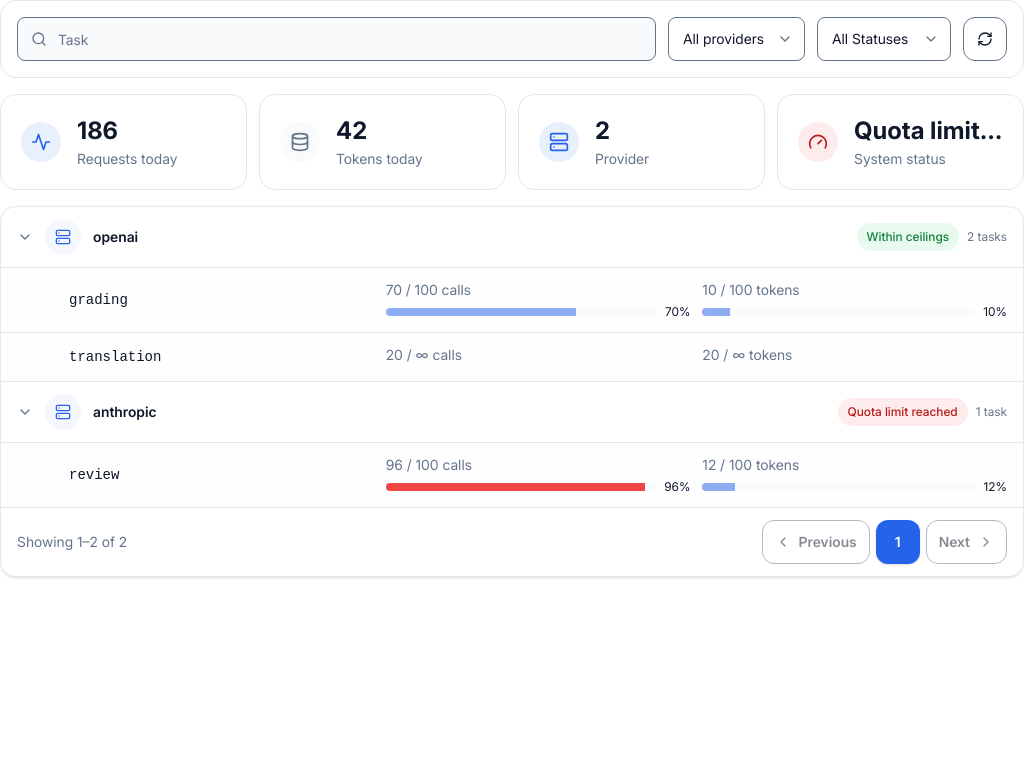
Test: AdminAIUsage › has no table, groups providers, and filters to the empty state
Check: the text "grading" is shown, box [69, 292, 128, 308]
Type "no-such-task" into the field labelled "Task" at [336, 39], box [17, 17, 656, 61]
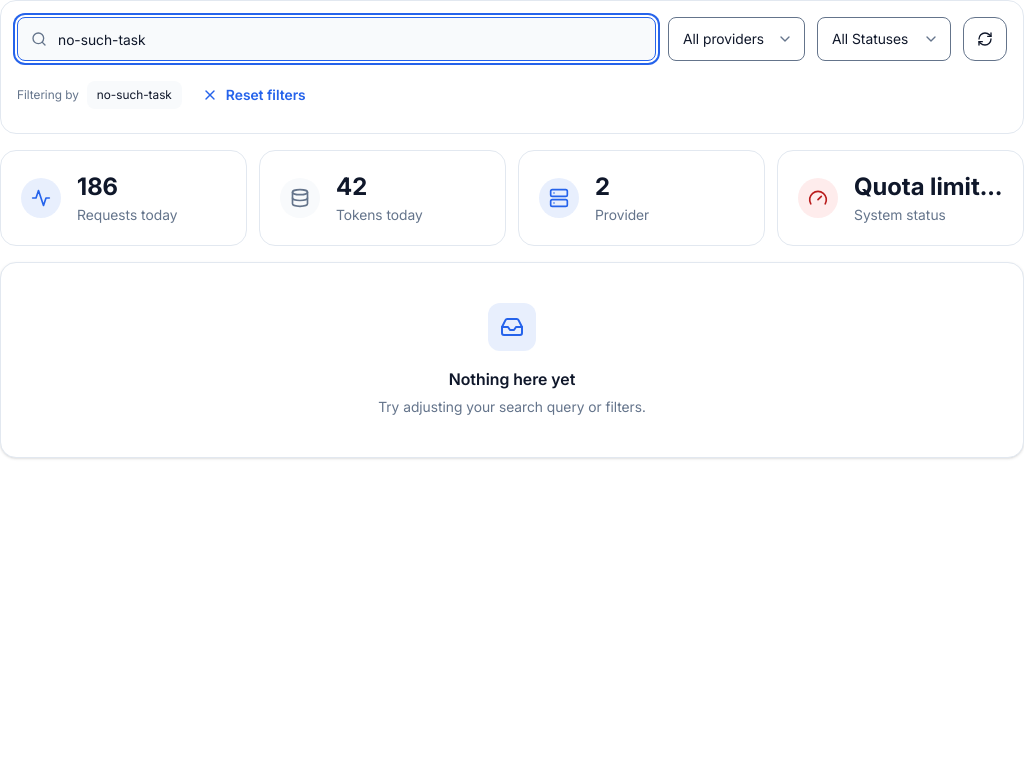
Check: the heading "Nothing here yet" is shown, box [449, 367, 575, 391]
Check: the button "Reset filters" is shown, box [190, 73, 318, 117]
